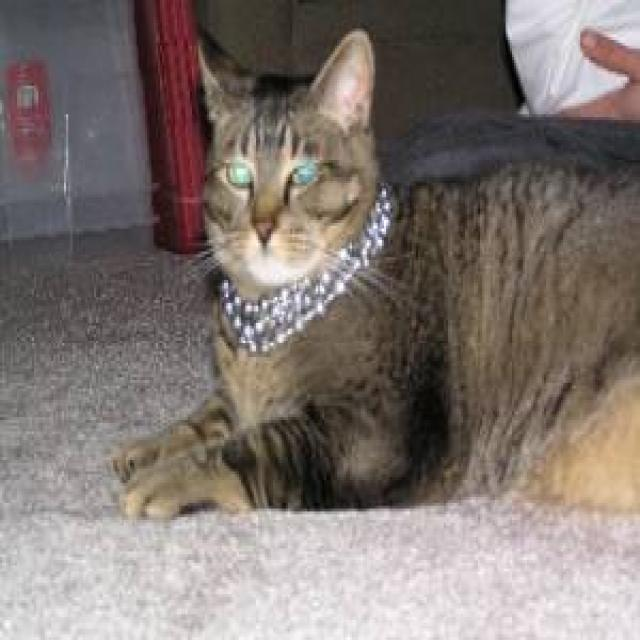Maine_Coon: (194, 25, 380, 294)
